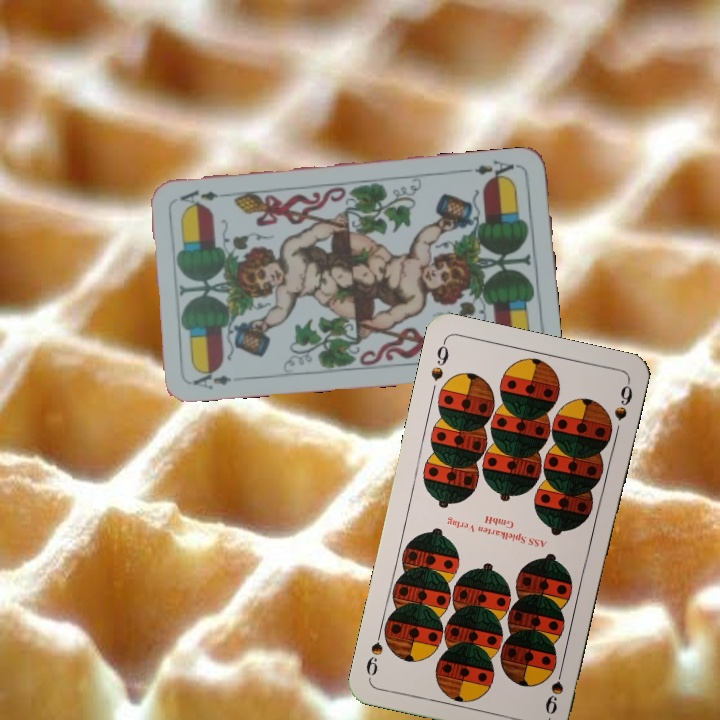EA: (470, 156, 522, 184), (188, 365, 234, 392)
S9: (541, 660, 567, 717), (426, 337, 452, 384)
